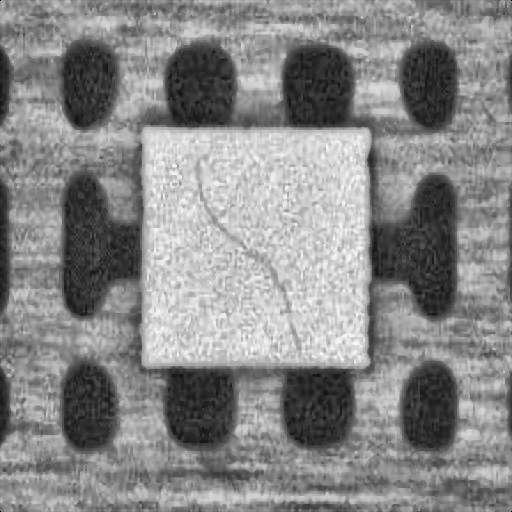DIE_CRACK: (193, 156, 303, 356)
